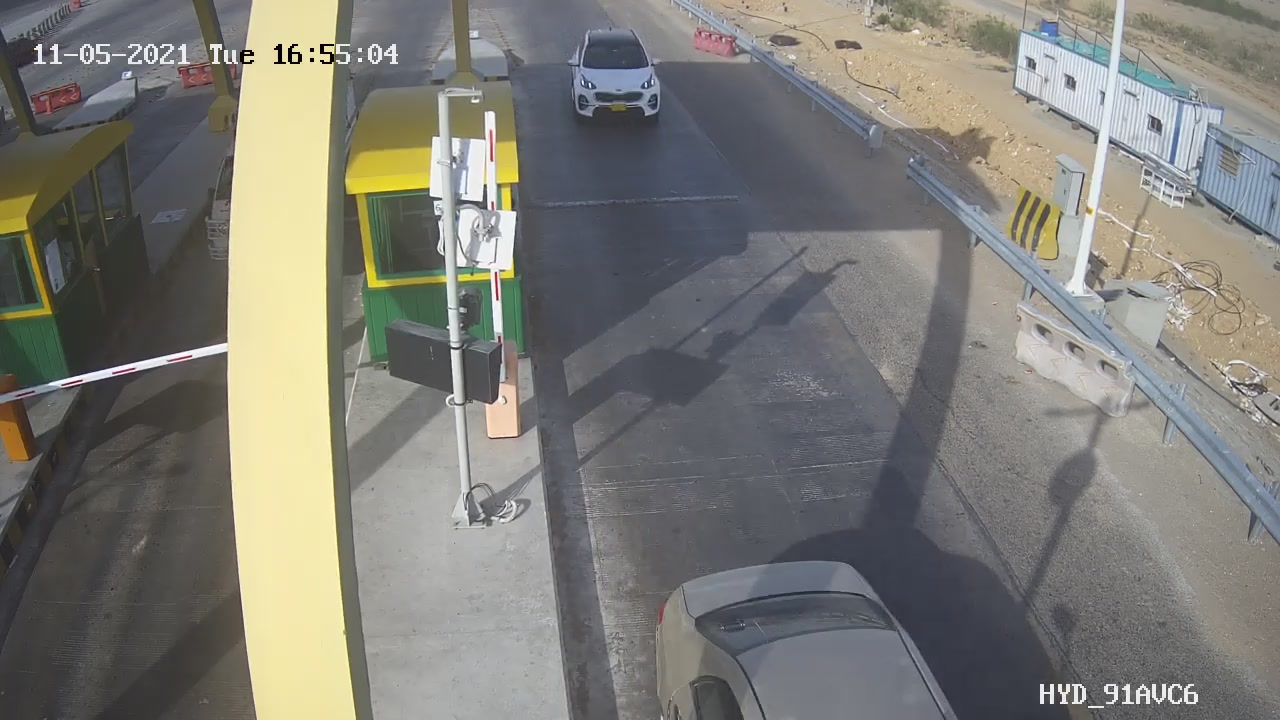F1: (550, 17, 681, 131)
